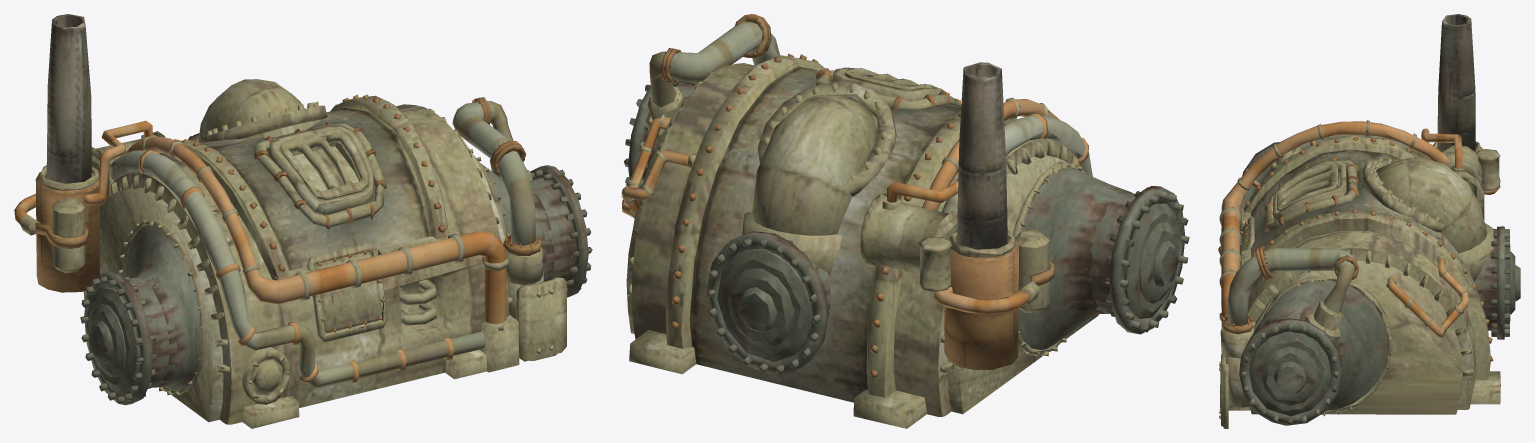
File: boiler.glb
3 renders of one model, left to right at view 1: azimuth 30°, elevation 25°; view 2: azimuth 150°, elevation 25°; view 3: azimuth 270°, elevation 25°, orthographic. The views are drawn at different scales.
Parts seen in each view (by area): view 1: body; view 2: body; view 3: body.
Part boxes in pixels (x1=…): body: x1=14, y1=14, x2=592, y2=428; body: x1=621, y1=14, x2=1189, y2=428; body: x1=1218, y1=14, x2=1520, y2=428.
Bounding box in the file's own units: 3.09 × 1.96 × 2.03.
Materials: 1 (1 with a texture image).
